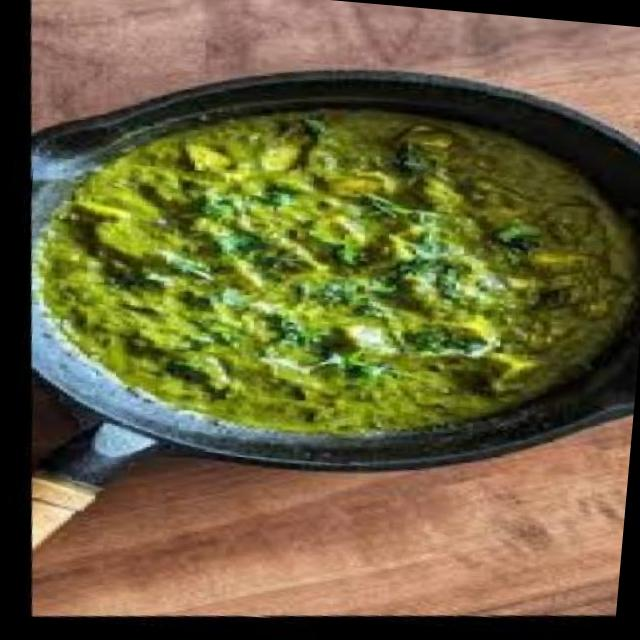palak_paneer: (9, 67, 640, 487)
